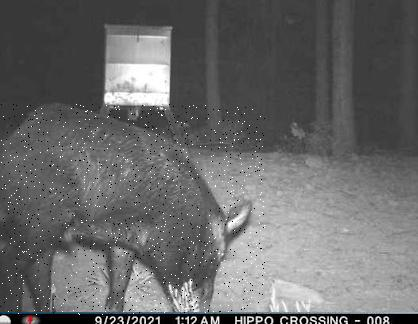Hog: (0, 104, 265, 315)
